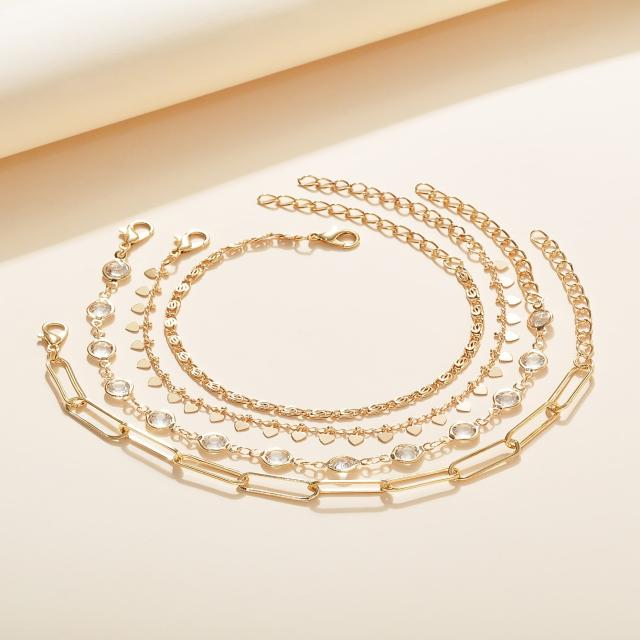bracelet: (29, 121, 640, 552)
